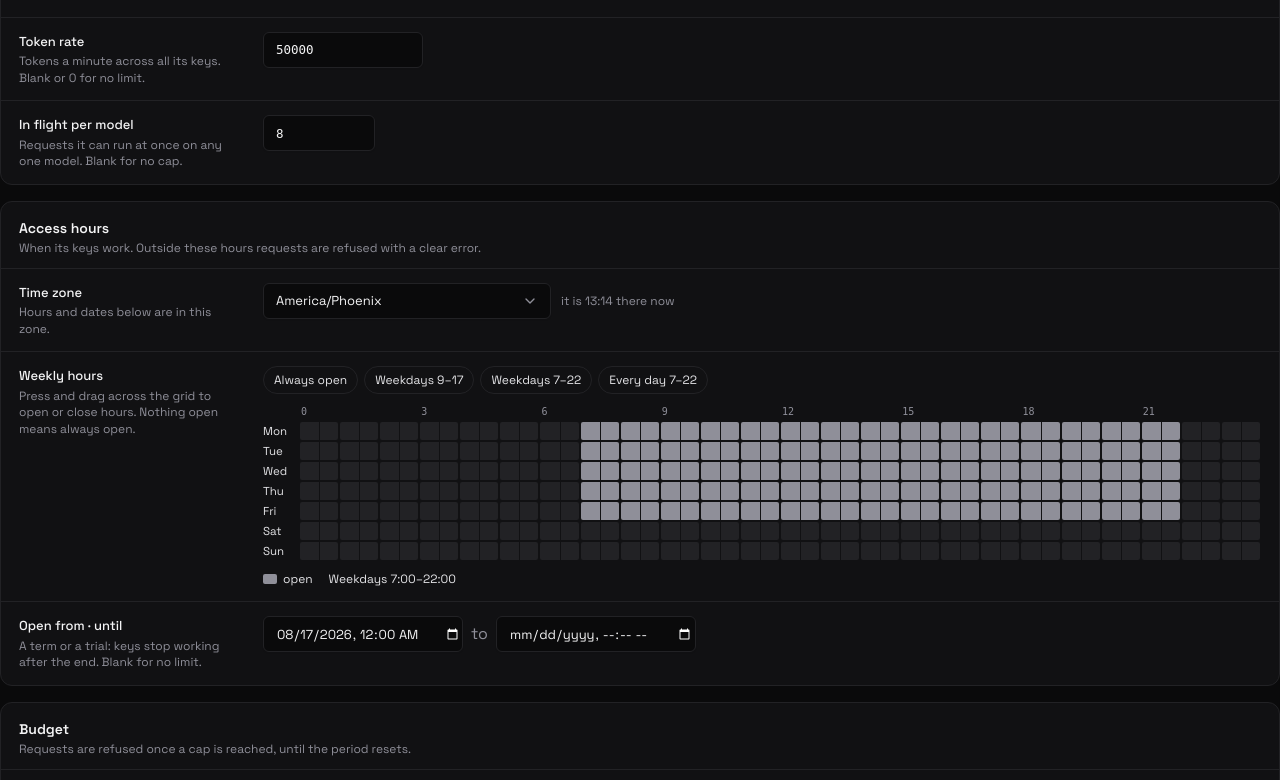
Test: a tenant's settings › opens hours with the week grid's preset and sends them as windows
(page scrolled)
Click the button "Weekdays 9–17" at (419, 380), box [364, 366, 474, 394]
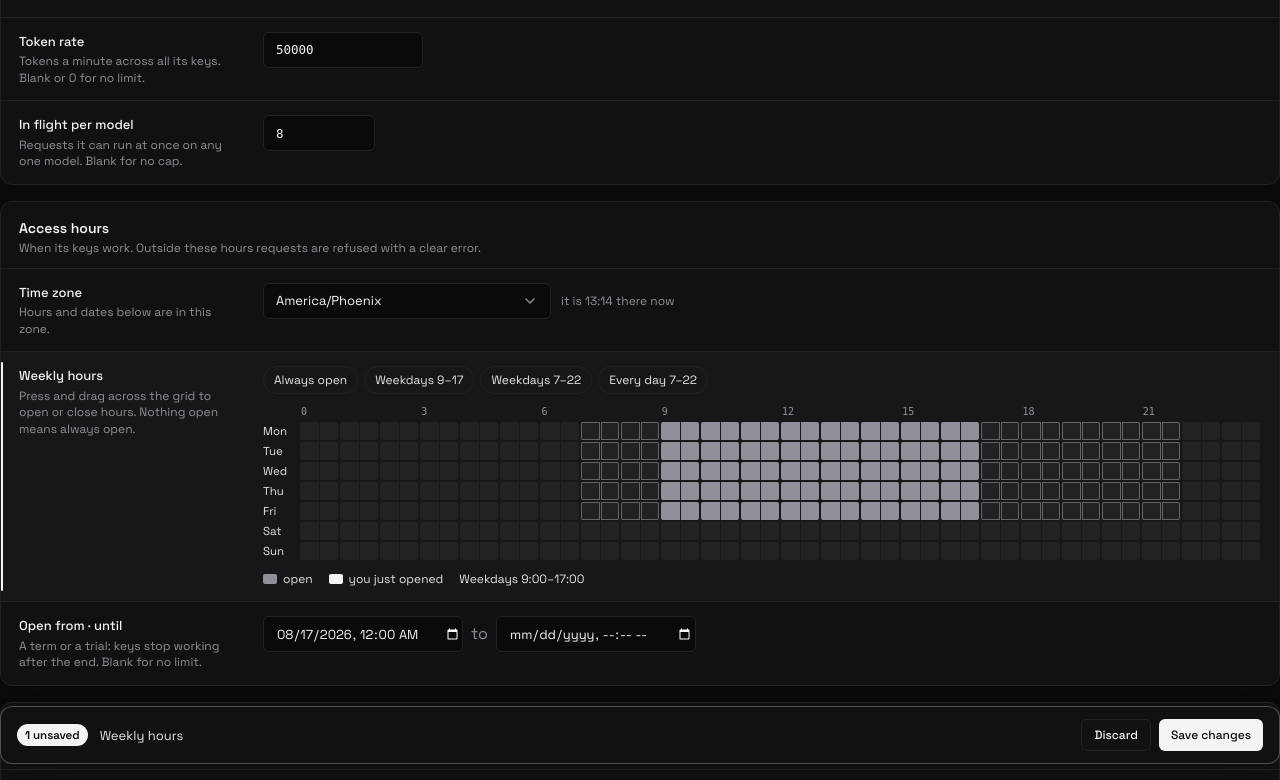
expect the element named "Unsaved changes" shows "Weekly hours": met, box [100, 726, 183, 743]
